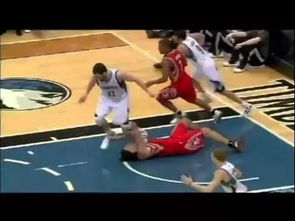fall: (115, 110, 248, 162)
